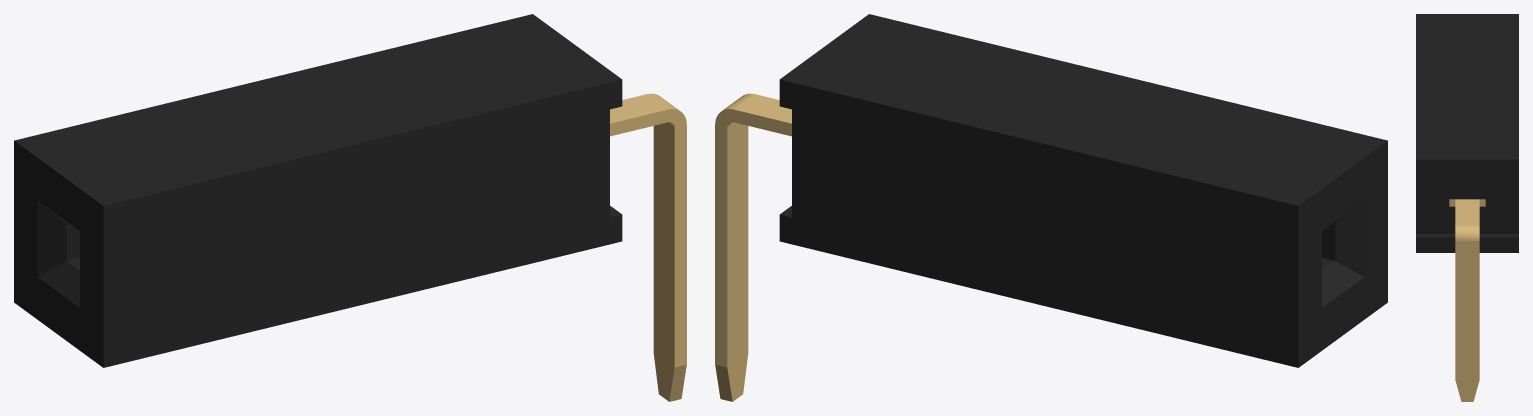
The model's file is kc-pinsocket_1x01_p2.54mm_horizontal.glb.
3 views of the same model, side by side, from view 1: azimuth 30°, elevation 25°; view 2: azimuth 150°, elevation 25°; view 3: azimuth 270°, elevation 25° (orthographic). The views are drawn at different scales.
Parts seen in each view (by area): view 1: 0_0_0_0, 0.75_0.5_0.25_0.9; view 2: 0_0_0_0, 0.75_0.5_0.25_0.9; view 3: 0_0_0_0, 0.75_0.5_0.25_0.9.
Part boxes in pixels (bbox=[...]): 0_0_0_0: bbox=[14, 14, 622, 367]; 0.75_0.5_0.25_0.9: bbox=[610, 93, 686, 401]; 0_0_0_0: bbox=[779, 14, 1387, 367]; 0.75_0.5_0.25_0.9: bbox=[715, 93, 791, 401]; 0_0_0_0: bbox=[1416, 14, 1518, 252]; 0.75_0.5_0.25_0.9: bbox=[1449, 199, 1485, 401].
Size of the model in its own units: 1.01 by 0.584 by 0.254.
